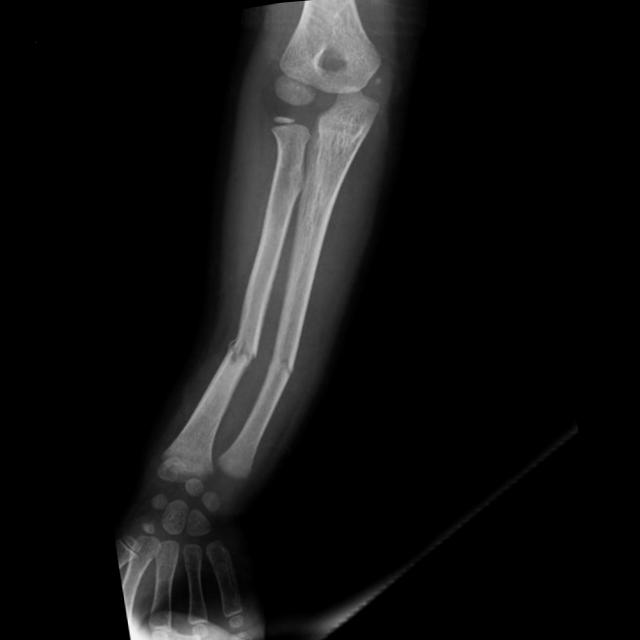Transverse Displaced: (212, 322, 266, 372), (267, 338, 304, 390)
